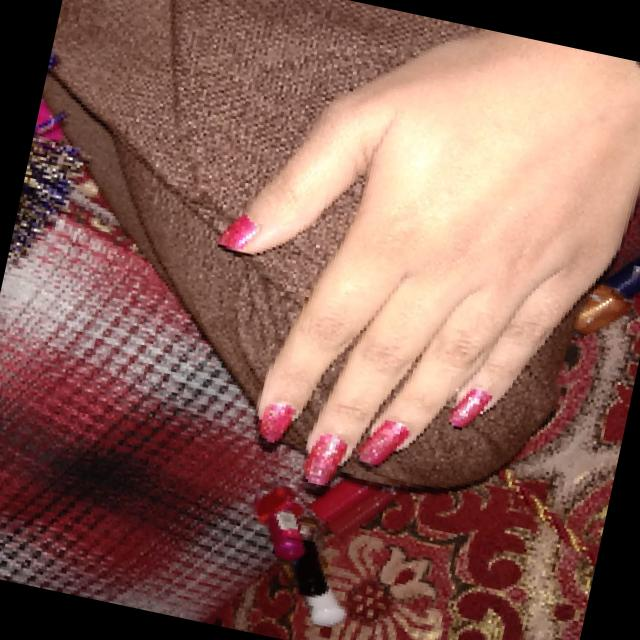Nail: (356, 419, 409, 465), (303, 432, 346, 484), (448, 387, 491, 426), (258, 402, 296, 442), (217, 213, 257, 250)
